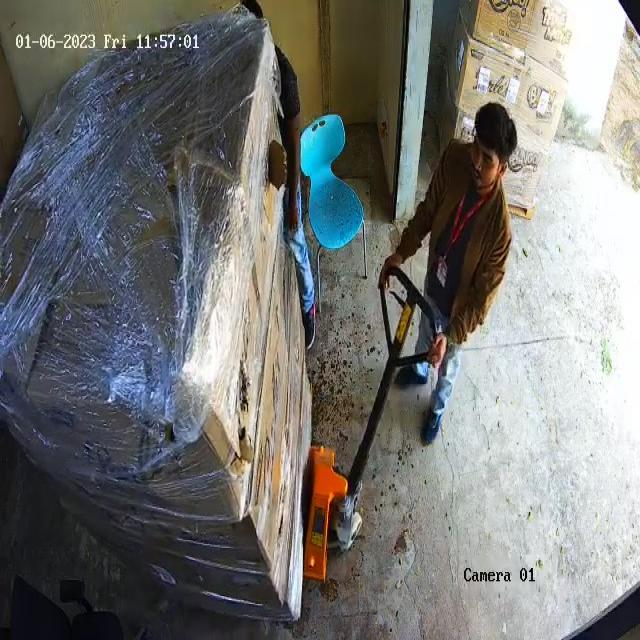leakage: (225, 347, 258, 481), (267, 121, 288, 201)
